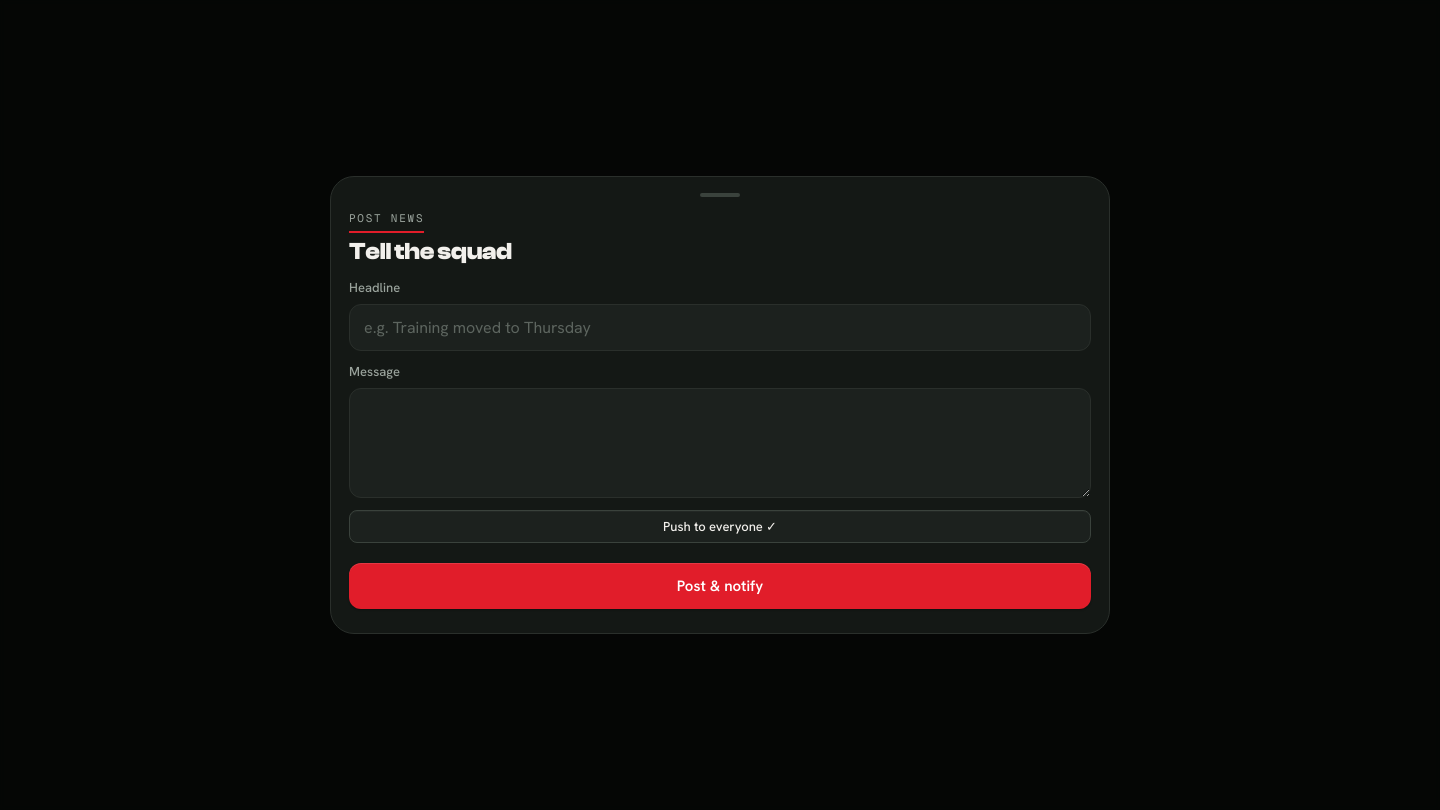
Test: NewsForm › tells the manager when the post landed but the push failed
Step 1. Type "Pitch change" into the field named "Headline" → (720, 327), box x1=349 y1=304 x2=1091 y2=351
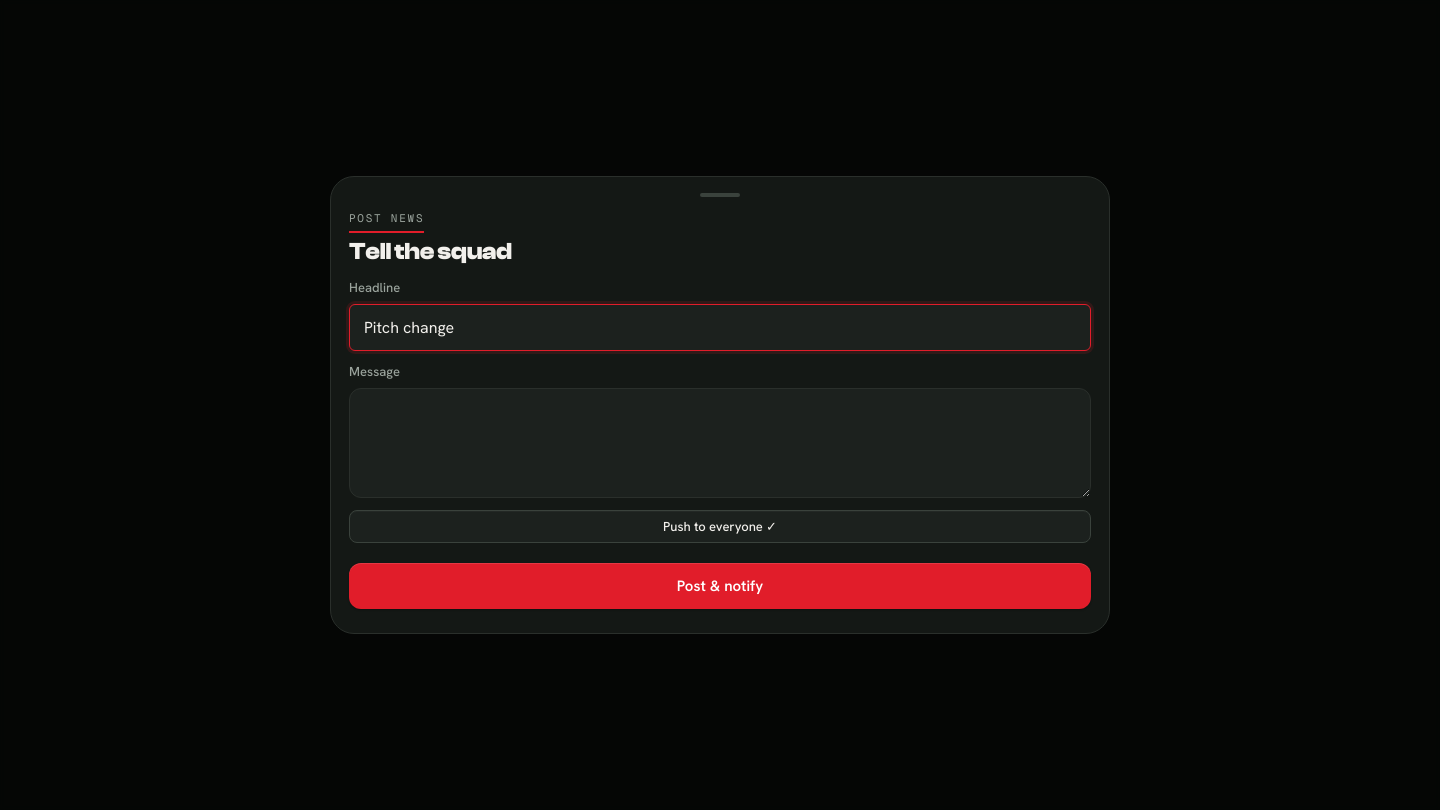
Step 2. Type "On the 4G this week" into the text box named "Message" → (720, 443), box x1=349 y1=388 x2=1091 y2=498
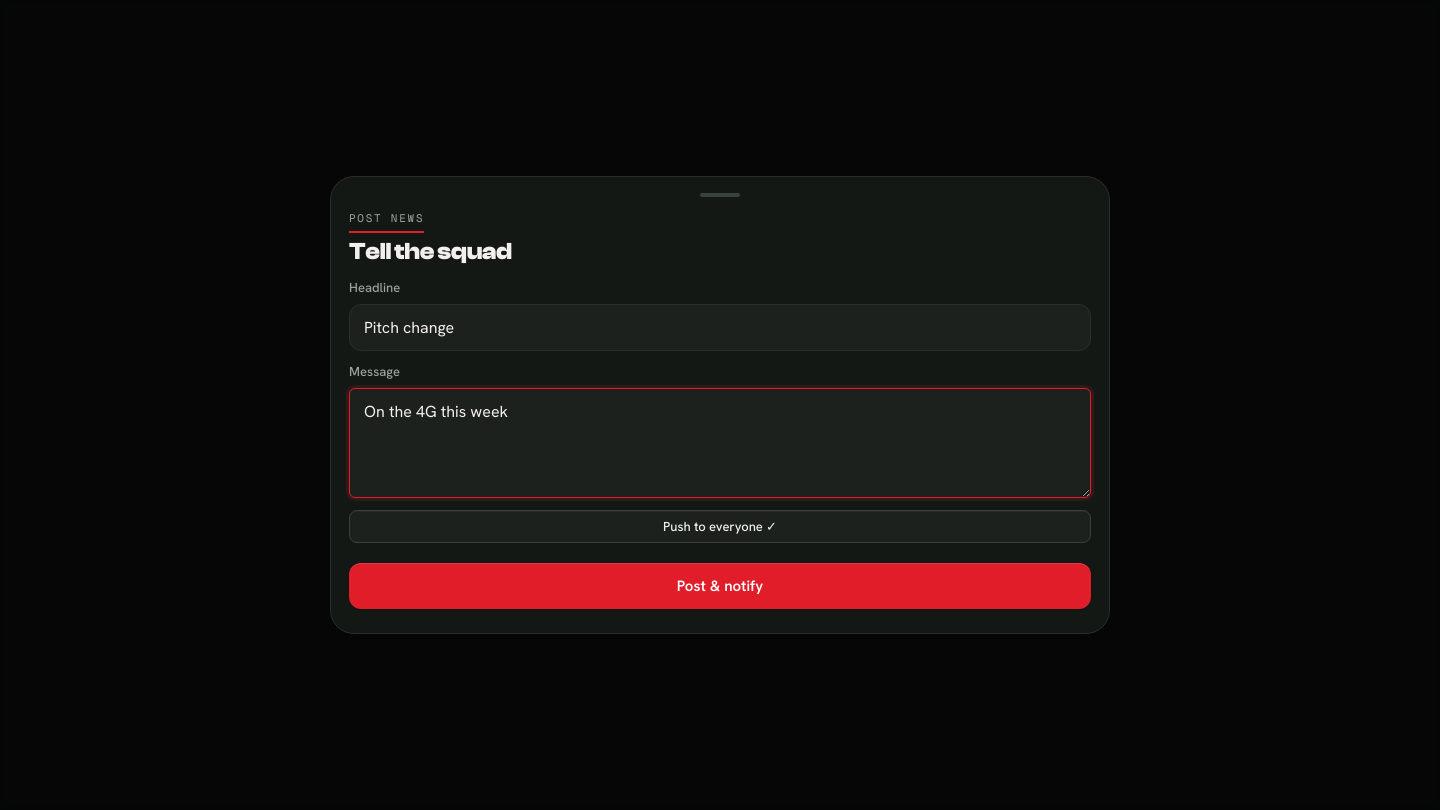
Step 3. Click the button "Post & notify" → (720, 586), box x1=349 y1=563 x2=1091 y2=609
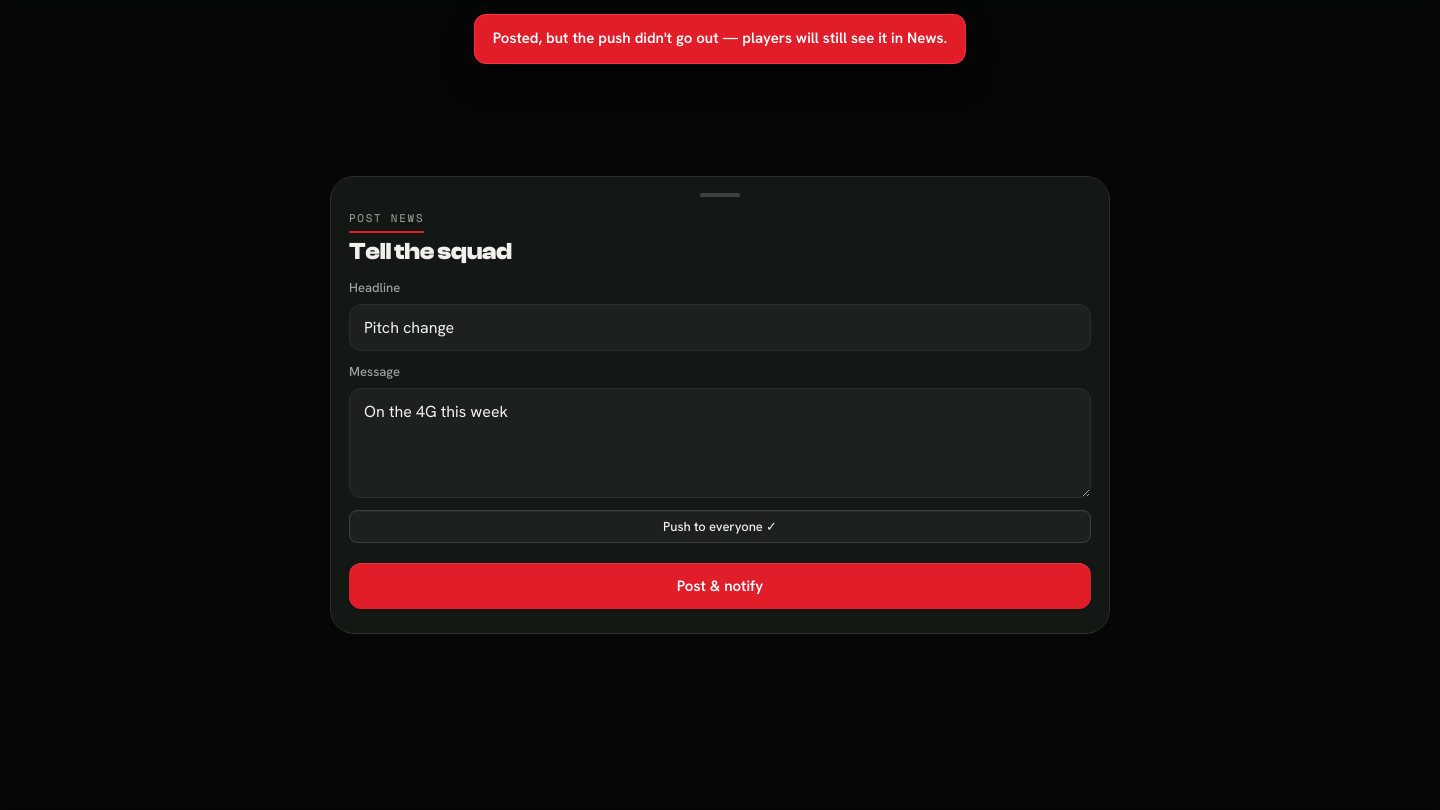
Now the message shows "push didn't go out", box x1=493 y1=28 x2=947 y2=48
